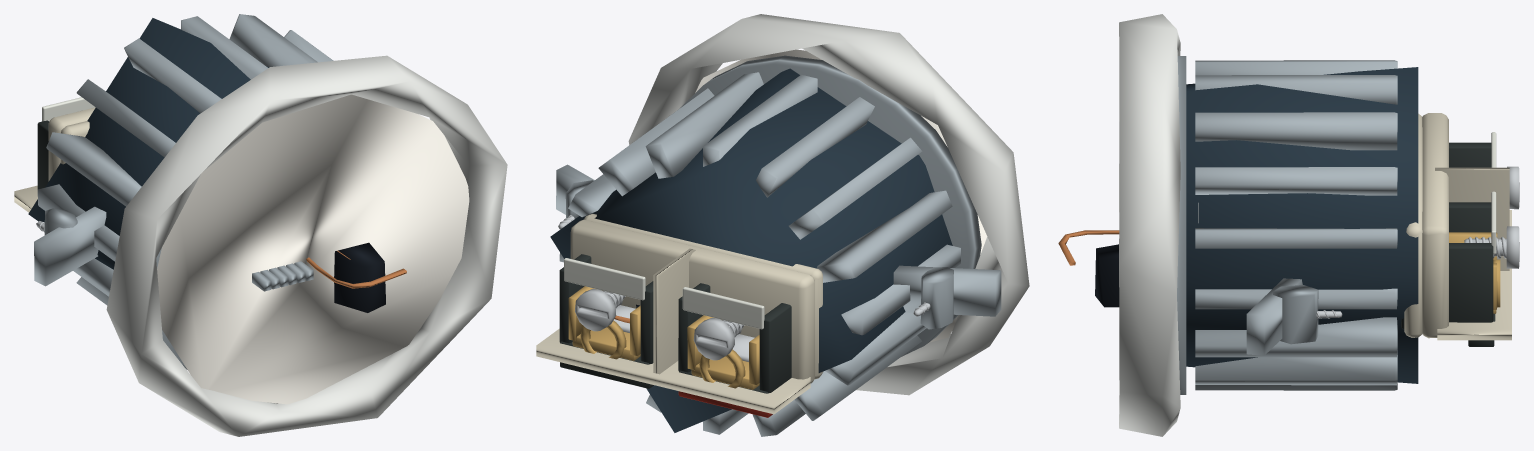
The model's file is led_downlight.low.glb.
3 views of the same model, side by side, from view 1: azimuth 30°, elevation 25°; view 2: azimuth 150°, elevation 25°; view 3: azimuth 270°, elevation 25° (orthographic). The views are drawn at different scales.
Parts seen in each view (by area): view 1: part:cover, part:body · Original 2a8198d3, part:body, part:mounting · Original 2a8198d3, part:electronics · Original 3ff2d46d, part:terminals · Original 5a609f27, part:electronics · Original 2a8198d3, detail:terminal-clamp:L · Detail moulded engineering polymer, Moulded terminal legend pad, part:electronics · Original db0da9ae; view 2: part:body · Original 2a8198d3, part:body, part:cover, part:terminals · Original 5a609f27, part:mounting · Original 2a8198d3, detail:terminal-clamp:L · Detail moulded engineering polymer, detail:terminal-clamp:N · Detail moulded engineering polymer, detail:terminal-clamp:L · Detail machined brass, detail:terminal-clamp:N · Detail machined brass, Moulded terminal legend pad, Moulded terminal legend pad.001, detail:terminal-clamp:L · Detail zinc plated fixing (+2 smaller); view 3: part:body · Original 2a8198d3, part:body, part:cover, part:terminals · Original 5a609f27, detail:terminal-clamp:N · Detail moulded engineering polymer, part:mounting · Original 2a8198d3, part:electronics · Original 3ff2d46d, detail:terminal-clamp:L · Detail moulded engineering polymer, detail:terminal-clamp:N · Detail zinc plated fixing, detail:terminal-clamp:N · Detail machined brass, part:electronics · Original db0da9ae, detail:terminal-clamp:L · Detail zinc plated fixing.
Boxes of the visible parts, <box> form: part:cover: <box>106,55,507,436</box>; part:body · Original 2a8198d3: <box>37,14,333,369</box>; part:body: <box>28,18,268,269</box>; part:mounting · Original 2a8198d3: <box>34,206,106,286</box>; part:electronics · Original 3ff2d46d: <box>334,242,385,312</box>; part:terminals · Original 5a609f27: <box>14,107,95,212</box>; part:electronics · Original 2a8198d3: <box>252,261,313,291</box>; detail:terminal-clamp:L · Detail moulded engineering polymer: <box>37,120,48,189</box>; Moulded terminal legend pad: <box>42,97,95,121</box>; part:electronics · Original db0da9ae: <box>306,250,406,288</box>; part:body · Original 2a8198d3: <box>559,55,981,436</box>; part:body: <box>550,68,952,432</box>; part:cover: <box>628,14,1029,395</box>; part:terminals · Original 5a609f27: <box>536,213,822,414</box>; part:mounting · Original 2a8198d3: <box>556,164,1001,329</box>; detail:terminal-clamp:L · Detail moulded engineering polymer: <box>678,283,791,393</box>; detail:terminal-clamp:N · Detail moulded engineering polymer: <box>559,254,653,388</box>; detail:terminal-clamp:L · Detail machined brass: <box>687,315,759,389</box>; detail:terminal-clamp:N · Detail machined brass: <box>568,286,640,360</box>; Moulded terminal legend pad: <box>682,287,764,329</box>; Moulded terminal legend pad.001: <box>564,258,645,300</box>; detail:terminal-clamp:L · Detail zinc plated fixing: <box>693,318,754,361</box>; part:body · Original 2a8198d3: <box>1177,56,1397,394</box>; part:body: <box>1186,67,1418,383</box>; part:cover: <box>1119,14,1180,436</box>; part:terminals · Original 5a609f27: <box>1404,113,1511,340</box>; detail:terminal-clamp:N · Detail moulded engineering polymer: <box>1401,202,1495,346</box>; part:mounting · Original 2a8198d3: <box>1246,278,1318,355</box>; part:electronics · Original 3ff2d46d: <box>1095,244,1119,307</box>; detail:terminal-clamp:L · Detail moulded engineering polymer: <box>1449,142,1491,167</box>; detail:terminal-clamp:N · Detail zinc plated fixing: <box>1464,226,1519,268</box>; detail:terminal-clamp:N · Detail machined brass: <box>1449,232,1500,313</box>; part:electronics · Original db0da9ae: <box>1058,230,1119,265</box>; detail:terminal-clamp:L · Detail zinc plated fixing: <box>1507,166,1519,209</box>.
Size of the model in its own units: 0.6282 by 0.4865 by 0.5558.
